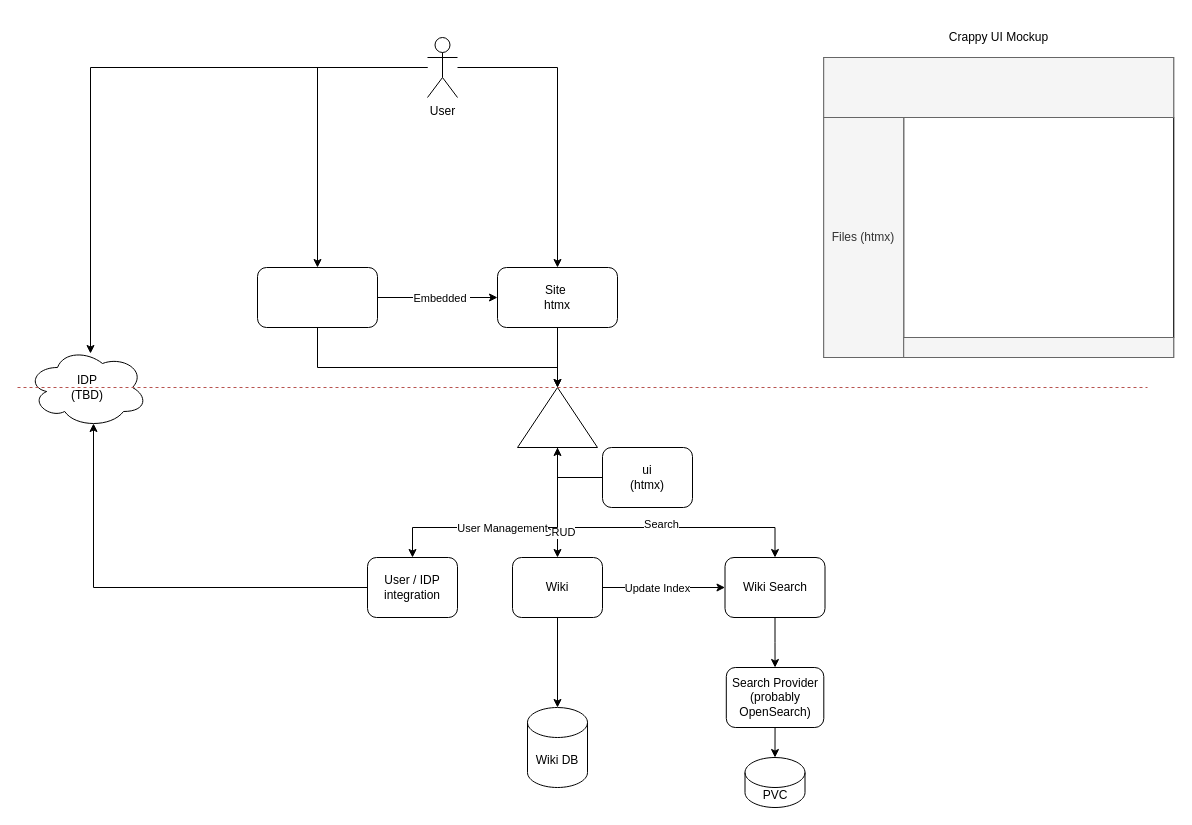
Some shapes in this 1192 by 825 pixel diagram are drawn without their labels. Each missing label, with the centre of its shape:
Controls (htmx): (1038,347)
Editor (Angular Element): (1038,227)
Editor App (Angular Element): (317,297)
Gateway: (557,417)
Main Nav (htmx): (998,87)
